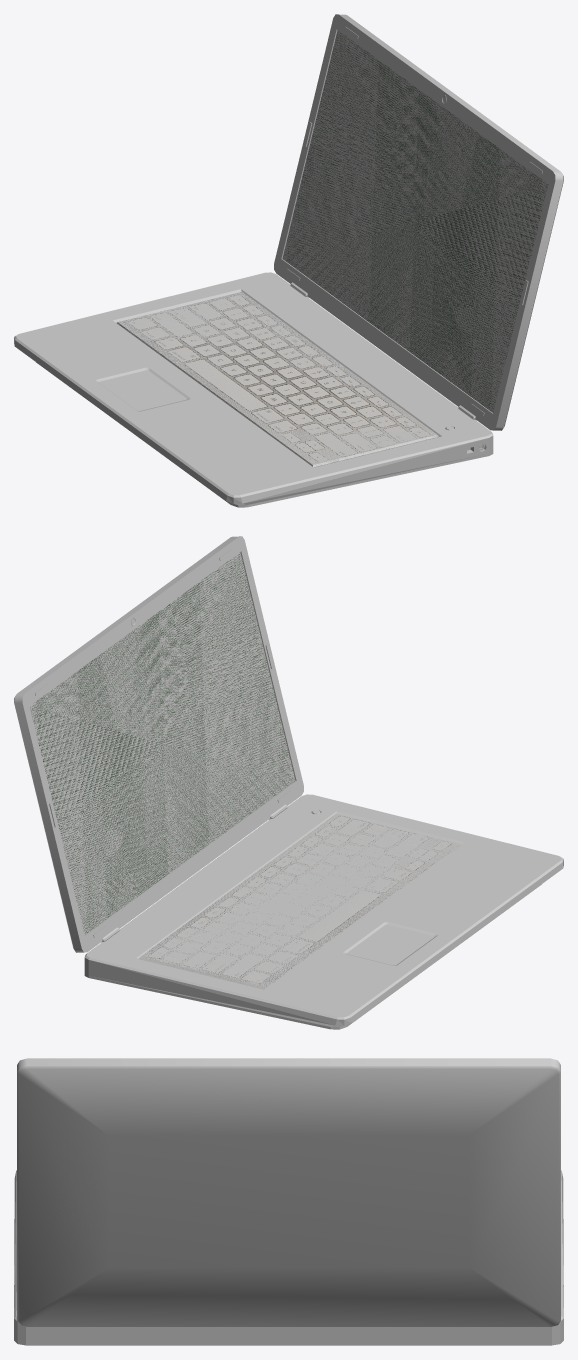
File: Laptop.fbx
3 renders of one model, top to bottom at view 1: azimuth 30°, elevation 25°; view 2: azimuth 150°, elevation 25°; view 3: azimuth 270°, elevation 25°, orthographic. The views are drawn at different scales.
Visible parts, largest first — view 1: Laptop; view 2: Laptop; view 3: Laptop.
Boxes of the visible parts, x1=… form: Laptop: x1=14, y1=14, x2=563, y2=507; Laptop: x1=14, y1=536, x2=563, y2=1029; Laptop: x1=14, y1=1058, x2=563, y2=1345.
Size of the model in its own units: 399 by 303 by 464.
